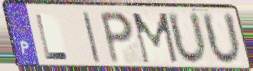I: (81, 10, 103, 65)
L: (34, 13, 71, 61)
M: (130, 11, 181, 66)
P: (98, 10, 136, 66)
U: (165, 10, 210, 68), (199, 11, 244, 68)
